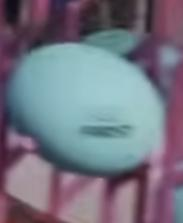algae: (6, 45, 167, 175), (83, 30, 177, 71)
